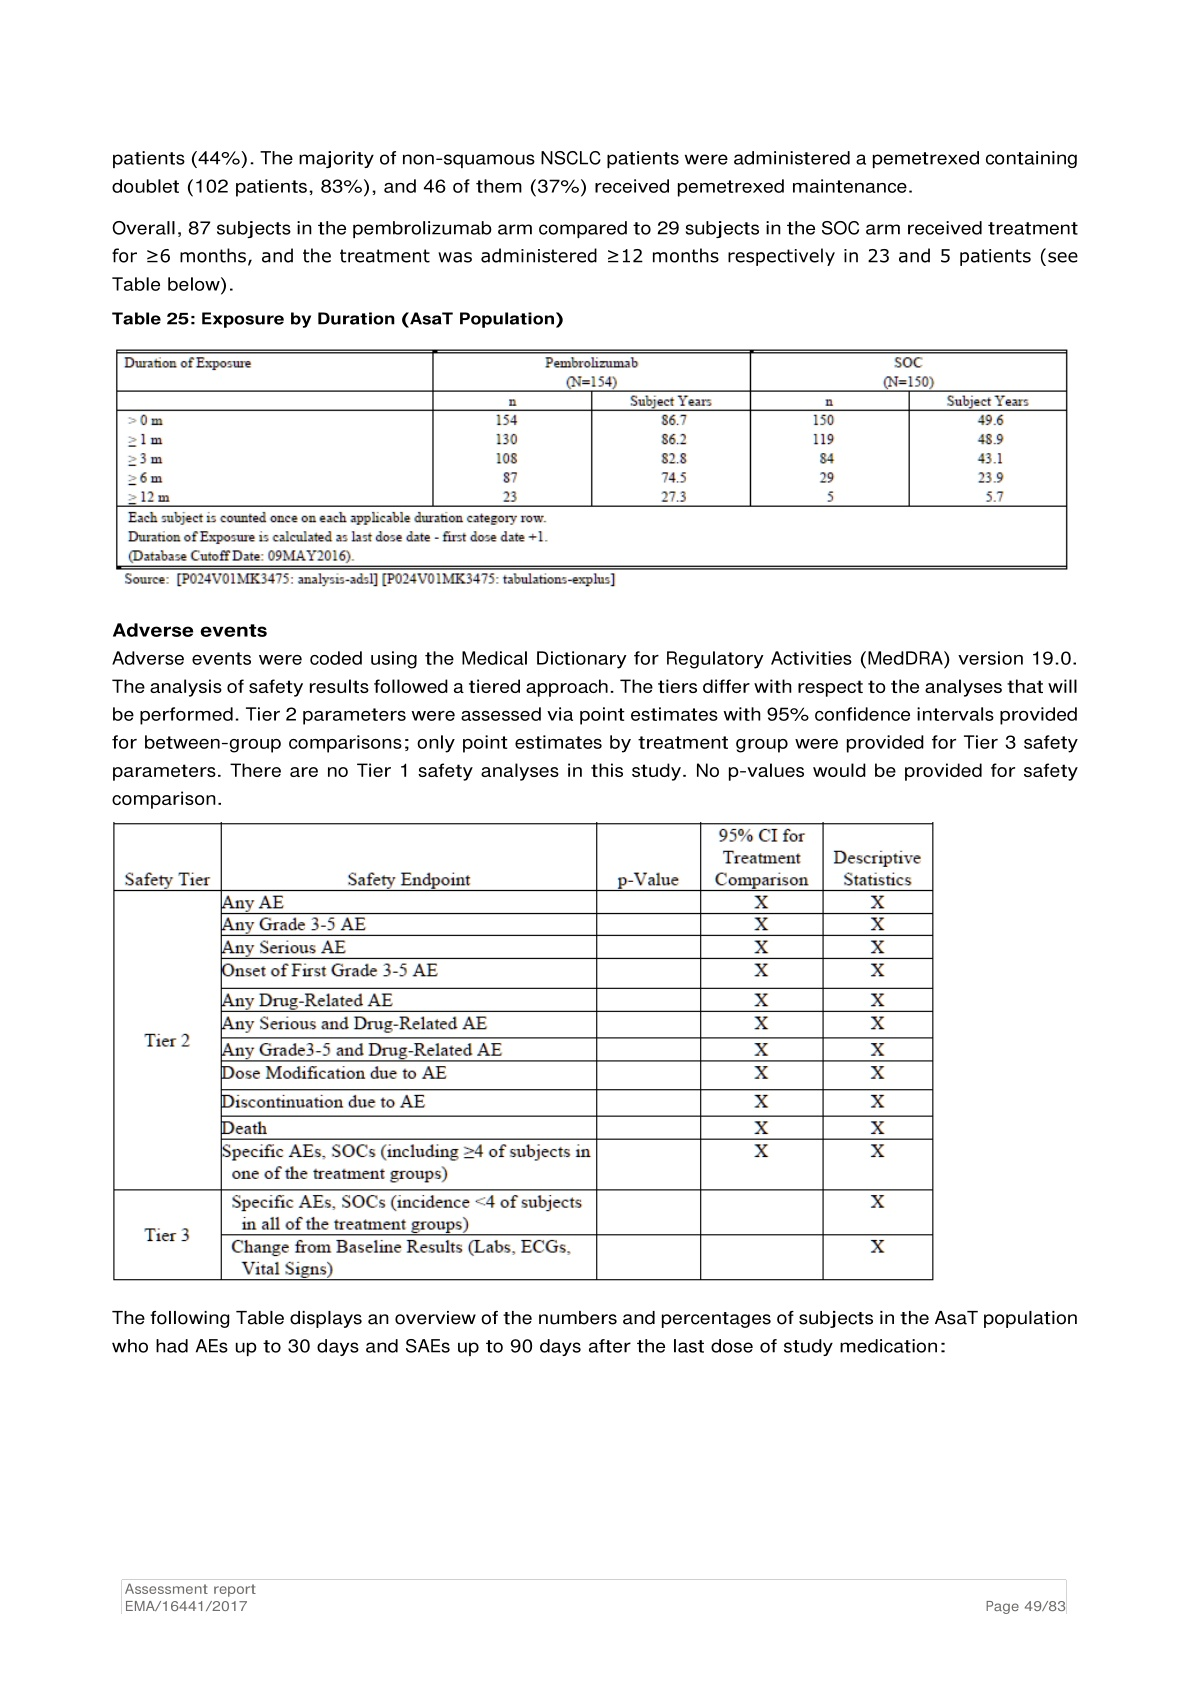merged_cells: (112, 820, 934, 1281), (116, 348, 1069, 571)
